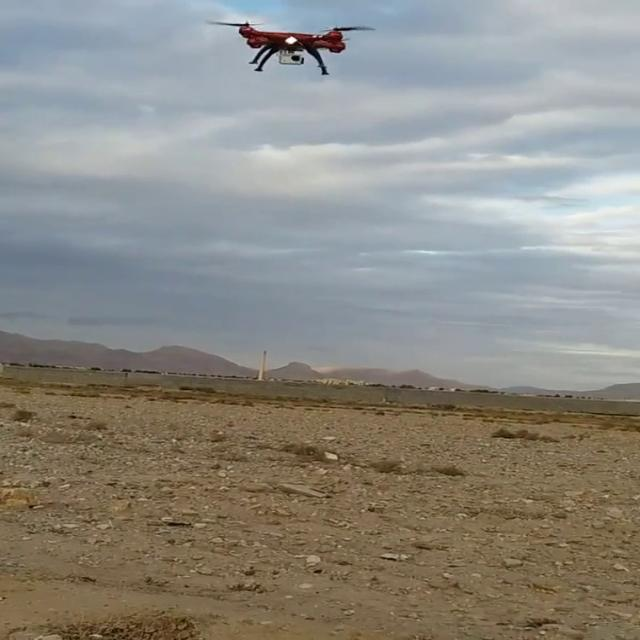drone: (202, 15, 376, 74)
